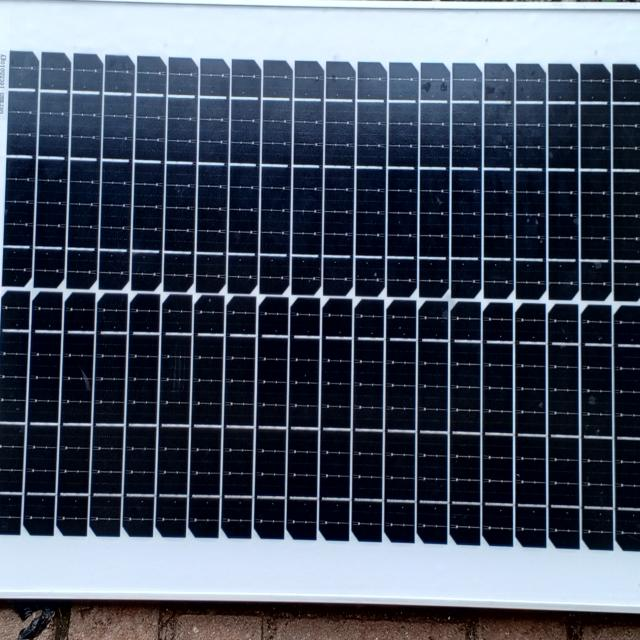Clean: (4, 17, 640, 582)
